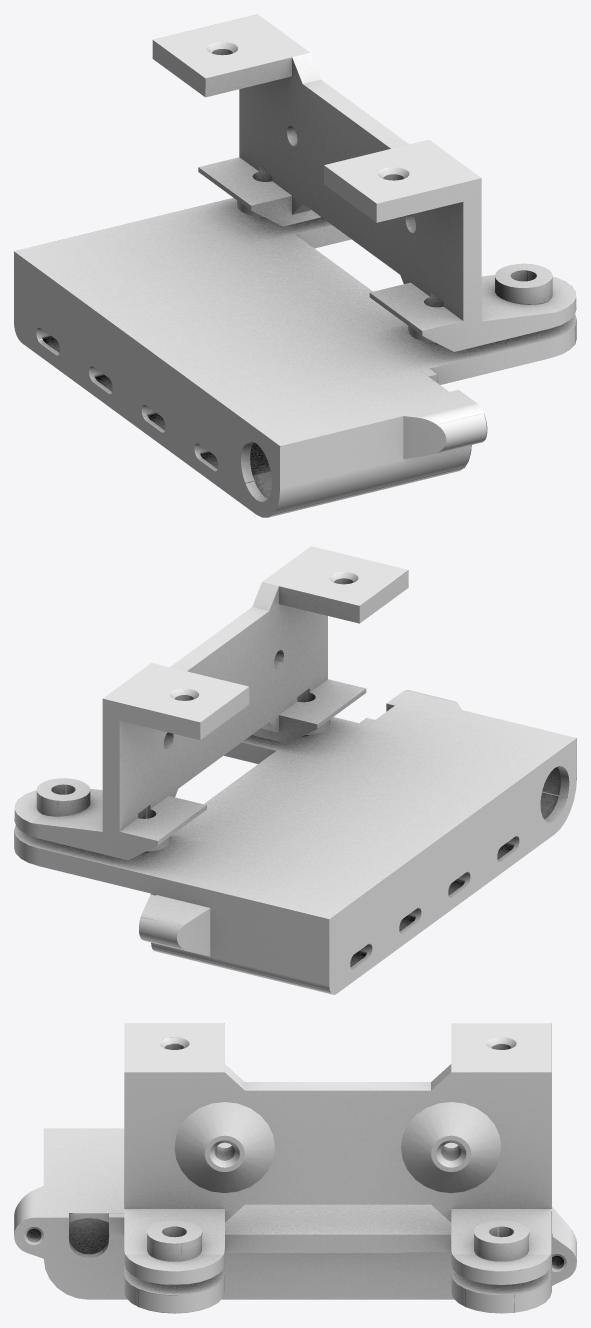
3 views of the same model, one above another, from view 1: azimuth 30°, elevation 25°; view 2: azimuth 150°, elevation 25°; view 3: azimuth 270°, elevation 25° (orthographic). The views are drawn at different scales.
Parts seen in each view (by area): view 1: under_sofa; view 2: under_sofa; view 3: under_sofa.
Boxes of the visible parts, <box> form: under_sofa: <box>14,14,576,517</box>; under_sofa: <box>14,546,576,994</box>; under_sofa: <box>14,1023,576,1313</box>.
Bounding box in the file's own units: 7.85 × 5.52 × 11.19.
1 material, 1 textured.
